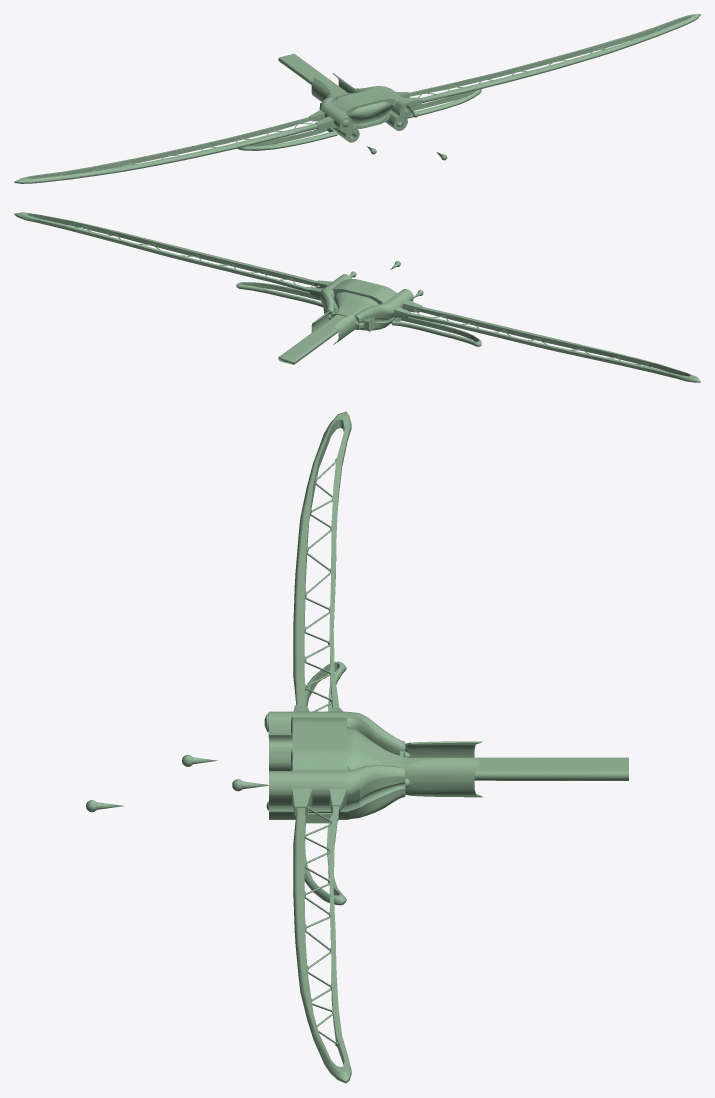
The model's file is DarringerComplete1.obj.
3 renders of one model, top to bottom at view 1: azimuth 30°, elevation 25°; view 2: azimuth 150°, elevation 25°; view 3: azimuth 270°, elevation 25°, orthographic. The views are drawn at different scales.
Parts seen in each view (by area): view 1: MainBody, pCylinder1, wing_bot_left5, wing_bot_left4, tailfin_right2; view 2: MainBody, pCylinder1, wing_bot_left5, wing_bot_left4, tailfin_right2; view 3: MainBody, pCylinder1, tailfin_right3, tailfin_right2, wing_bot_left4.
Boxes of the visible parts, x1,y1,x2,y2 form: MainBody: (14,14,700,183); pCylinder1: (278,54,391,124); wing_bot_left5: (237,128,337,150); wing_bot_left4: (408,89,481,118); tailfin_right2: (311,77,330,101); MainBody: (14,212,700,382); pCylinder1: (278,292,378,364); wing_bot_left5: (391,317,481,346); wing_bot_left4: (236,282,324,307); tailfin_right2: (333,315,356,345); MainBody: (264,411,405,1083); pCylinder1: (347,727,628,780); tailfin_right3: (405,758,482,797); tailfin_right2: (405,741,482,757); wing_bot_left4: (304,813,346,905).
Size of the model in its own units: 304 by 12.58 by 104.
